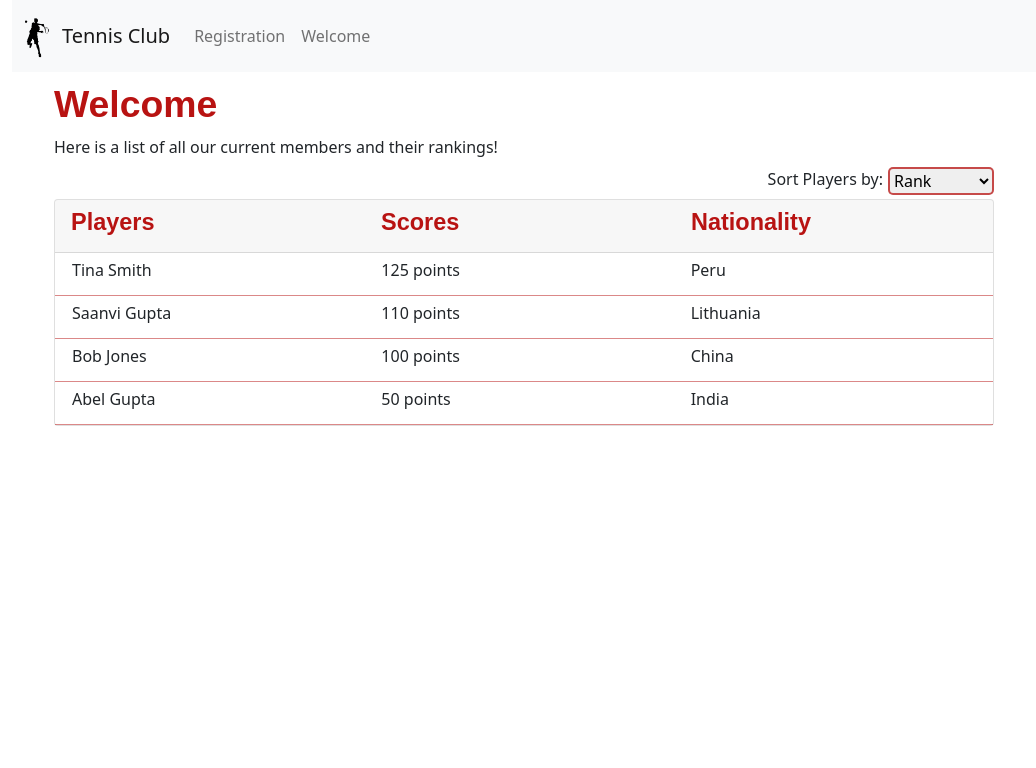
NavBar › registration link should redirect to registration page
Click the link "Registration".
click(240, 36)  # box [194,25,285,47]
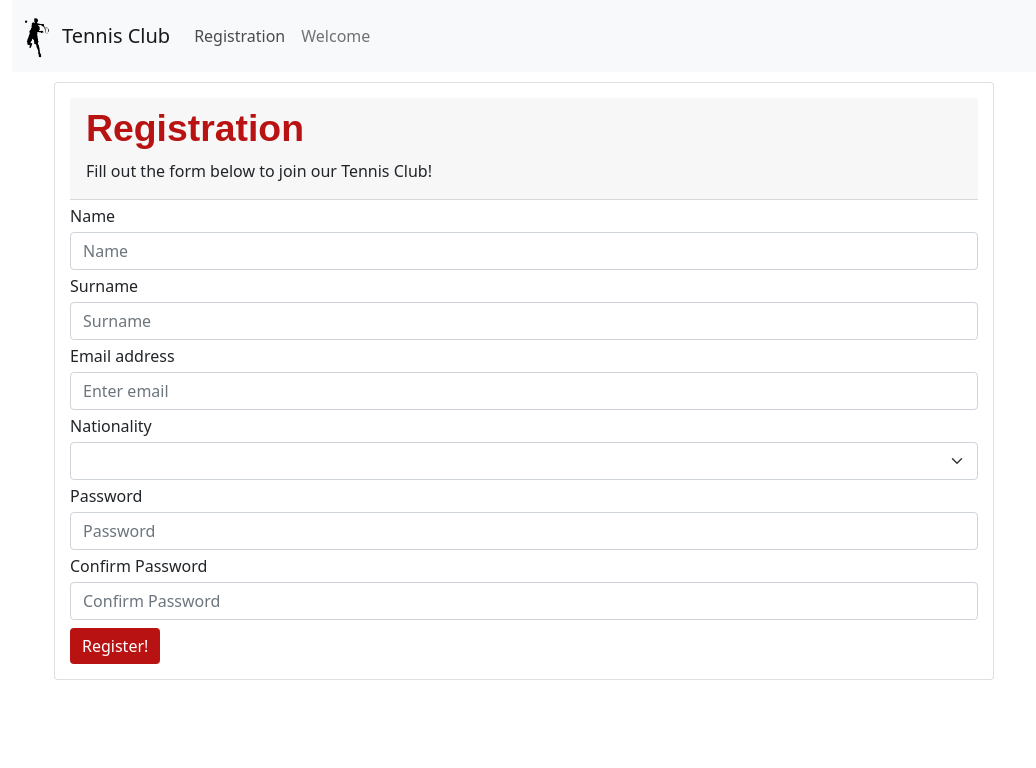
Check: the text "Password" is shown, box [70,484,142,508]
